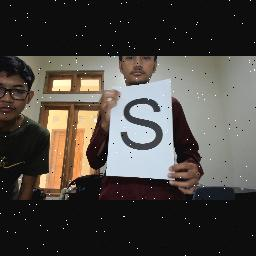s: (115, 96, 169, 158)
